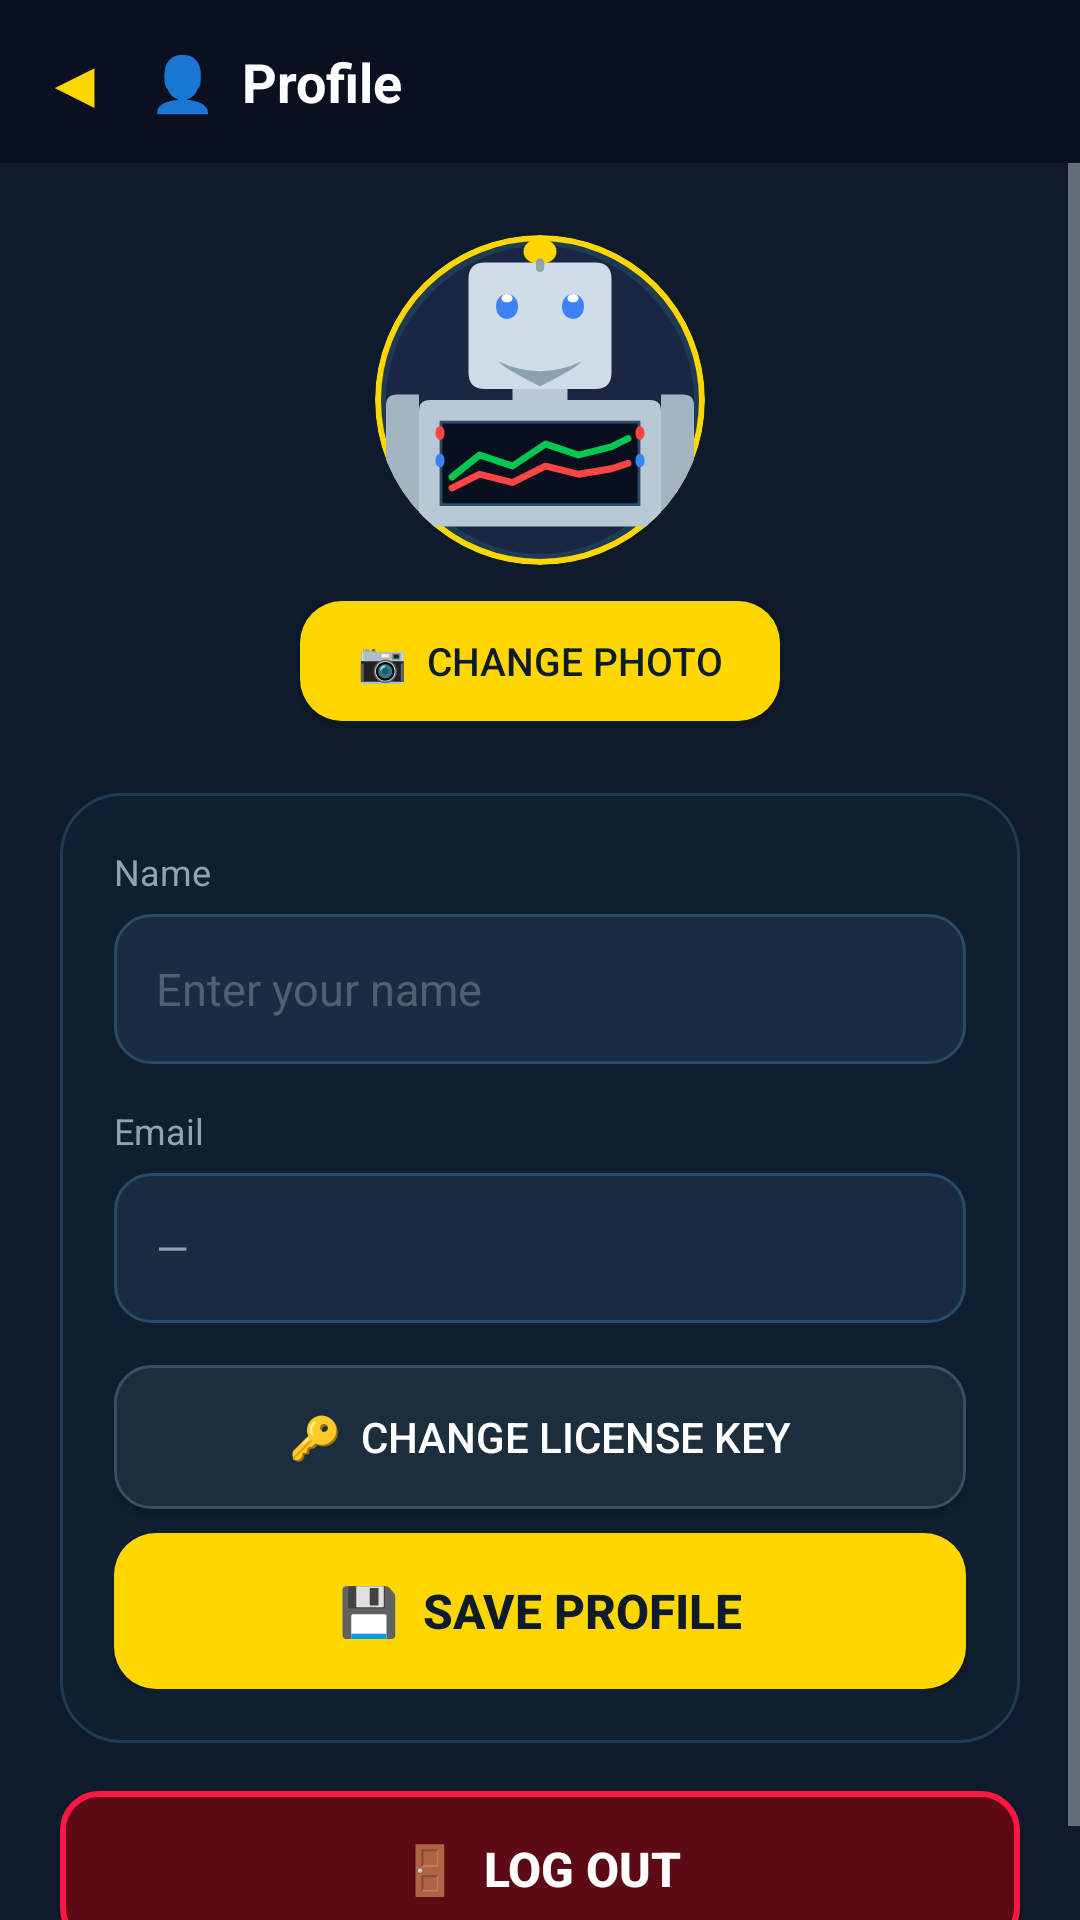

Locate icon controls on the screen. Image size 1080 × 1920, boxes as BBox(x1, y1, x2, y2).
robot: BBox(375, 235, 705, 565)
